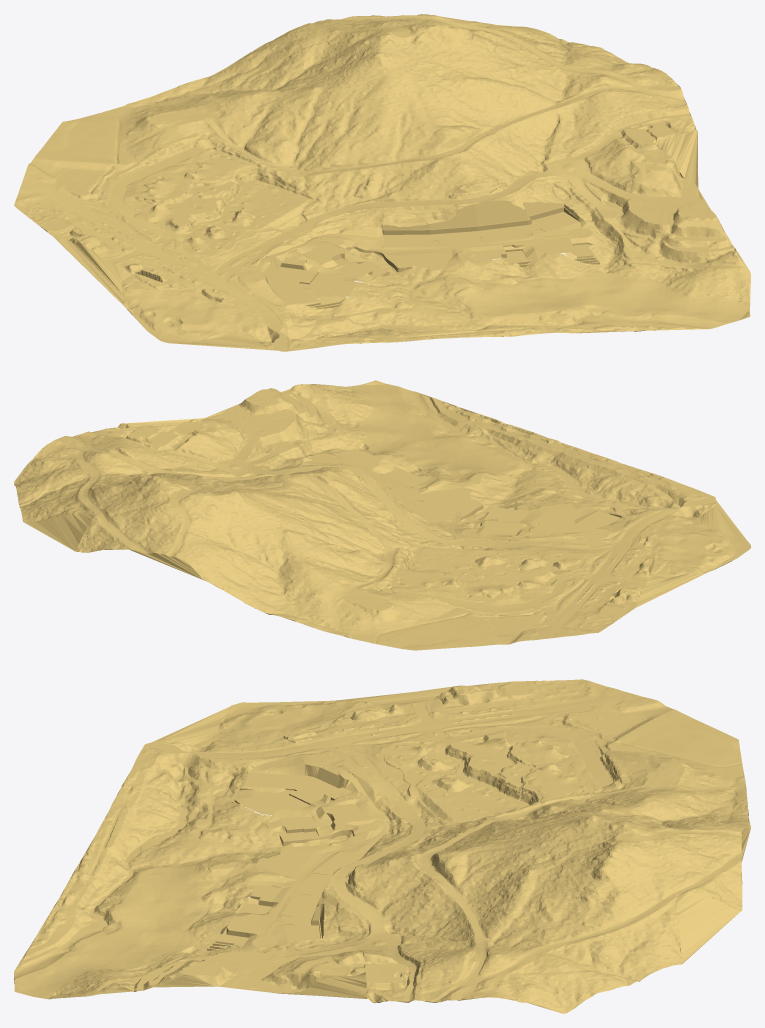
The model's file is Terrain.glb.
The picture shows the model from 3 angles, top to bottom: view 1: azimuth 30°, elevation 25°; view 2: azimuth 150°, elevation 25°; view 3: azimuth 270°, elevation 25°; orthographic projection. The views are drawn at different scales.
Parts seen in each view (by area): view 1: Object_1; view 2: Object_1; view 3: Object_1.
Part boxes in pixels (x1,y1,x2,y2): Object_1: [14, 14, 750, 351]; Object_1: [14, 380, 750, 650]; Object_1: [14, 679, 750, 1013].
Bounding box in the file's own units: 554 × 92.99 × 513.
